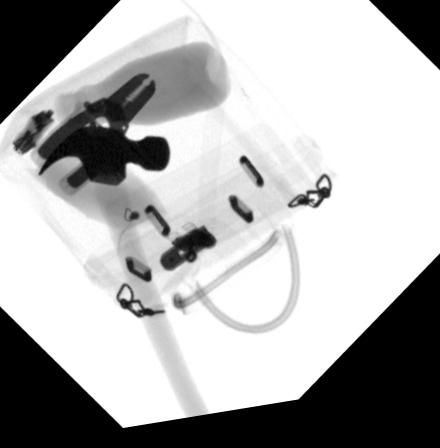Hammer: (37, 128, 209, 424)
Pliers: (28, 78, 156, 200)
